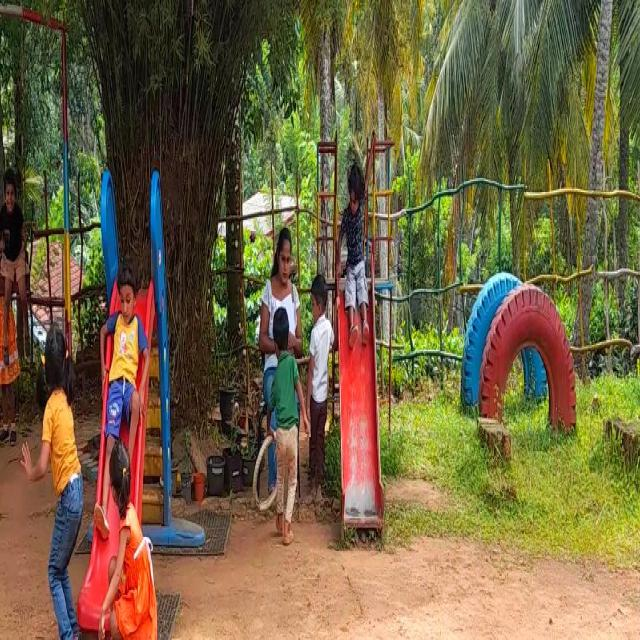child: (34, 318, 76, 640), (108, 445, 148, 640), (274, 315, 300, 553), (306, 277, 330, 511), (107, 272, 140, 434), (342, 149, 372, 324), (0, 177, 28, 343)
